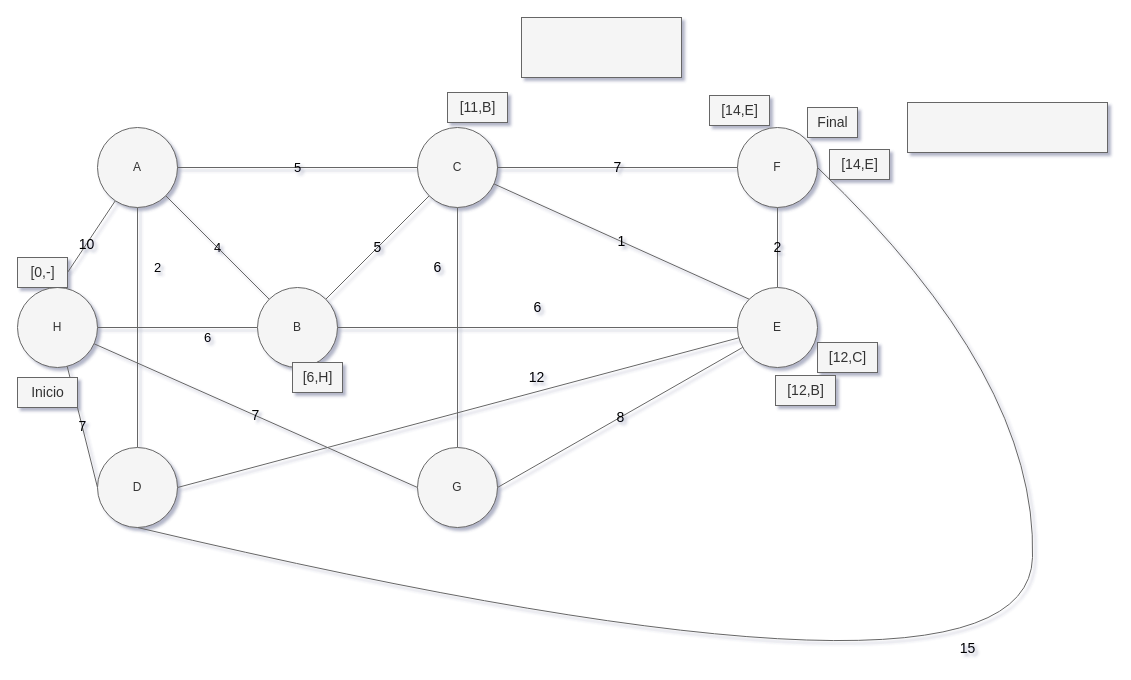
The diagram is 1131 pixels wide and 680 high, and some of its shapes have lost their labels. The centre of each missing label's shape, as x and y in pixels:
"Dijkstra" belongs at [601,47].
"Valor del recorrido: 14 Camino más corto: H-B-E-F" belongs at [1007,127].
